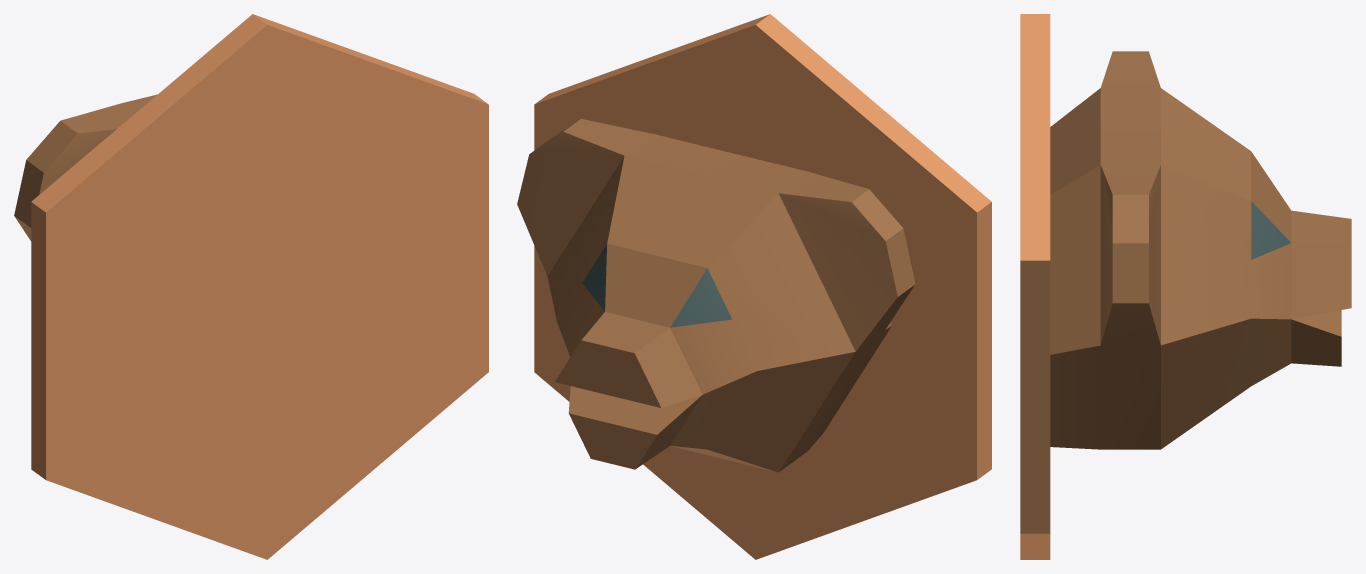
Rendered from bear.dae.
The picture shows the model from 3 angles, left to right: view 1: azimuth 30°, elevation 25°; view 2: azimuth 150°, elevation 25°; view 3: azimuth 270°, elevation 25°; orthographic projection. The views are drawn at different scales.
Parts seen in each view (by area): view 1: bear; view 2: bear; view 3: bear.
Boxes of the visible parts, left/top/right/bottom form: bear: left=14, top=14, right=488, bottom=559; bear: left=517, top=14, right=991, bottom=559; bear: left=1020, top=14, right=1351, bottom=559.
Bounding box in the file's own units: 0.3897 × 0.45 × 0.2475.
